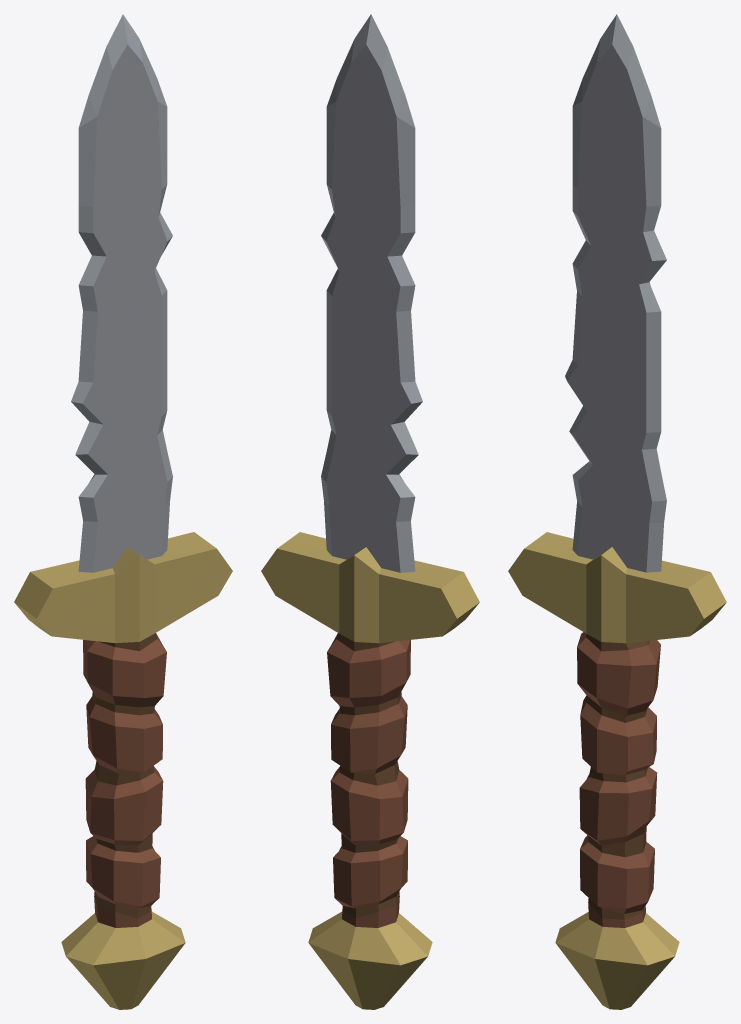
Rendered from Knife-transformed.glb.
3 renders of one model, left to right at view 1: azimuth 30°, elevation 25°; view 2: azimuth 150°, elevation 25°; view 3: azimuth 330°, elevation 25°, orthographic.
Parts seen in each view (by area): view 1: Dagger_2; view 2: Dagger_2; view 3: Dagger_2.
Part boxes in pixels (left/top/right/bottom): Dagger_2: left=14, top=14, right=232, bottom=1009; Dagger_2: left=261, top=14, right=479, bottom=1009; Dagger_2: left=508, top=14, right=726, bottom=1009.
Size of the model in its own units: 0.6439 by 3.11 by 0.2563.
1 material, 1 textured.
